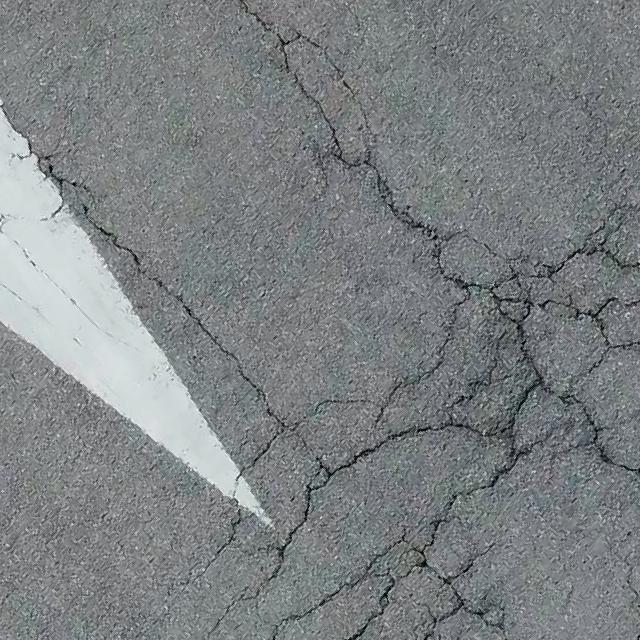GRIETA: (237, 0, 439, 241), (81, 212, 287, 428), (288, 34, 370, 157), (0, 104, 98, 204)
PIEL DE COCODRILO: (167, 195, 639, 639)
